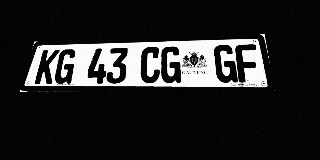3: (105, 48, 128, 84)
4: (86, 48, 110, 84)
C: (139, 47, 161, 83)
F: (235, 44, 261, 83)
G: (213, 45, 238, 83), (52, 49, 78, 84), (160, 46, 181, 83)
K: (34, 49, 60, 84)
